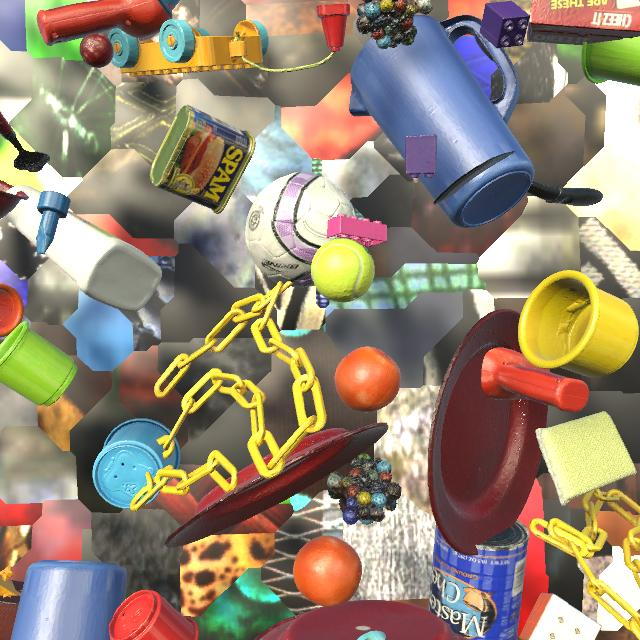ycb_002_master_chef_can: (428, 520, 530, 640)
ycb_003_cracker_box: (527, 0, 640, 45)
ycb_010_potted_meat_can: (150, 105, 256, 214)
ycb_017_orange: (293, 536, 362, 607), (335, 346, 401, 412)
